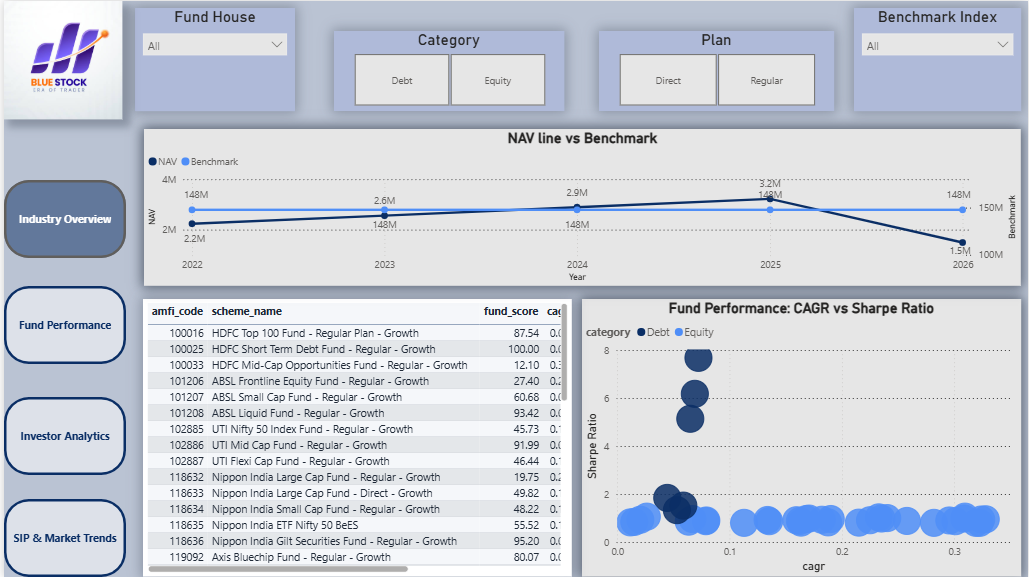

Layout of this report page (visuals, bound fields, positions):
{"tool":"powerbi","page":{"name":"Fund Performance","canvas":[1280,720],"ordinal":1},"visuals":[{"type":"scatterChart","title":"Fund Performance: CAGR vs Sharpe Ratio","fields":{"X":["fund_scorecard.cagr"],"Y":["07_scheme_performance.sharpe_ratio"],"Size":["Sum(03_aum_by_fund_house.aum_crore)"],"Series":["01_fund_master.category"]},"box":[722.9,372.9,548.6,347.1],"z":0},{"type":"tableEx","fields":{"Values":["fund_scorecard.amfi_code","01_fund_master.scheme_name","fund_scorecard.fund_score","fund_scorecard.cagr","fund_scorecard.sharpe_ratio","fund_scorecard.alpha","fund_scorecard.beta","fund_scorecard.max_drawdown"]},"box":[174.3,372.9,535.7,347.1],"z":1000},{"type":"lineChart","title":"NAV line vs Benchmark","fields":{"Category":["02_nav_history.date.Variation.Date Hierarchy.Year","02_nav_history.date.Variation.Date Hierarchy.Quarter","02_nav_history.date.Variation.Date Hierarchy.Month","02_nav_history.date.Variation.Date Hierarchy.Day"],"Y":["Sum(02_nav_history.nav)"],"Y2":["Sum(10_benchmark_indices.close_value)"]},"box":[175,160,1096.2,196.2],"z":2000},{"type":"slicer","title":"Fund House","fields":{"Values":["01_fund_master.fund_house"]},"box":[163.8,8.8,200,128.8],"z":3000},{"type":"slicer","title":"Category","fields":{"Values":["01_fund_master.category"]},"box":[412.5,37.5,287.5,100],"z":4000},{"type":"slicer","title":"Plan","fields":{"Values":["01_fund_master.plan"]},"box":[743.8,37.5,293.8,100],"z":5000},{"type":"image","box":[0,0,147.5,147.5],"z":6000},{"type":"actionButton","title":"Home","box":[0,223.8,152.5,97.5],"z":7000},{"type":"actionButton","box":[0,356.2,152.5,97.5],"z":8000},{"type":"actionButton","box":[0,495,152.5,97.5],"z":9000},{"type":"actionButton","box":[0,622.5,152.5,97.5],"z":10000},{"type":"slicer","title":"Benchmark Index","fields":{"Values":["10_benchmark_indices.index_name"]},"box":[1062.5,8.8,208.8,128.8],"z":11000}]}

Visuals, with their boxes in screenshot pixels (x1, y1, x2, y2), scaled from the page's 1280x720 canvas onto the 1029x577 screenshot:
"Fund Performance: CAGR vs Sharpe Ratio" scatterChart: (581,299,1022,576)
tableEx - fund_scorecard.amfi_code x 01_fund_master.scheme_name: (140,299,571,576)
"NAV line vs Benchmark" lineChart: (141,128,1022,285)
"Fund House" slicer: (132,7,292,110)
"Category" slicer: (332,30,563,110)
"Plan" slicer: (598,30,834,110)
image: (0,0,119,118)
"Home" actionButton: (0,179,123,257)
actionButton: (0,285,123,364)
actionButton: (0,397,123,475)
actionButton: (0,499,123,576)
"Benchmark Index" slicer: (854,7,1022,110)
